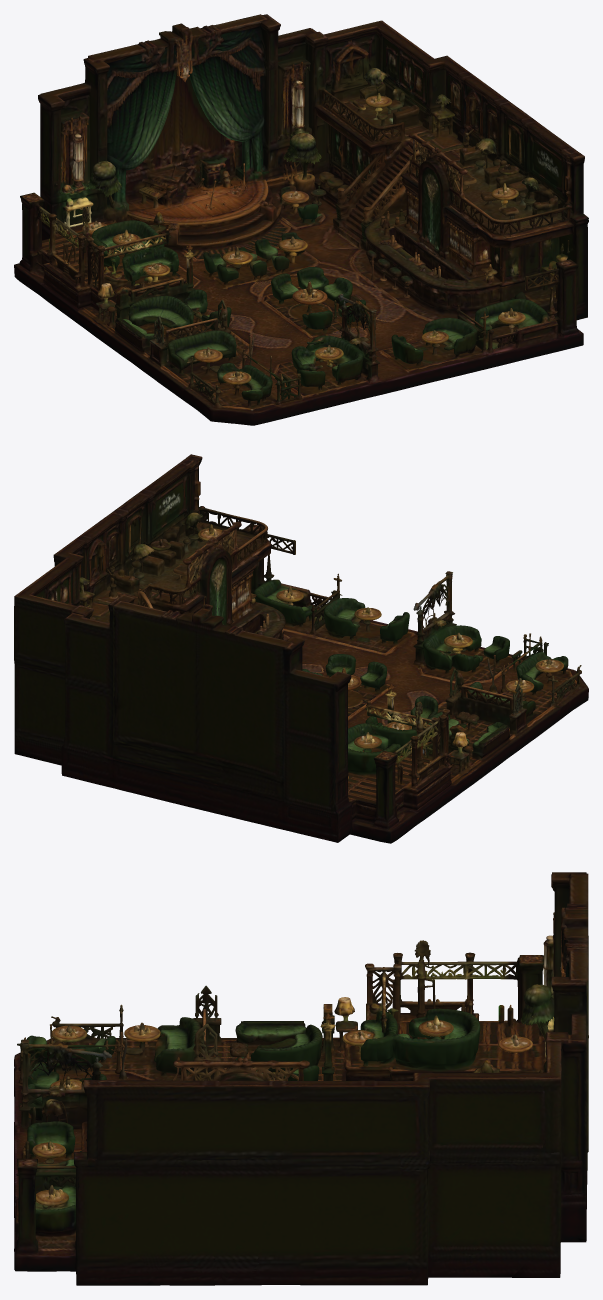
Rendered from casino_royale.lod.glb.
The picture shows the model from 3 angles, top to bottom: view 1: azimuth 30°, elevation 25°; view 2: azimuth 150°, elevation 25°; view 3: azimuth 270°, elevation 25°; orthographic projection. The views are drawn at different scales.
Parts seen in each view (by area): view 1: tripo_node_33c81b0a-3de3-4844-9b69-ffec325b78c1; view 2: tripo_node_33c81b0a-3de3-4844-9b69-ffec325b78c1; view 3: tripo_node_33c81b0a-3de3-4844-9b69-ffec325b78c1.
Boxes of the visible parts, x1=… form: tripo_node_33c81b0a-3de3-4844-9b69-ffec325b78c1: x1=14, y1=14, x2=588, y2=425; tripo_node_33c81b0a-3de3-4844-9b69-ffec325b78c1: x1=14, y1=454, x2=588, y2=843; tripo_node_33c81b0a-3de3-4844-9b69-ffec325b78c1: x1=14, y1=872, x2=588, y2=1285.
Bounding box in the file's own units: 0.9548 × 0.4745 × 0.9796.
1 material, 1 textured.
